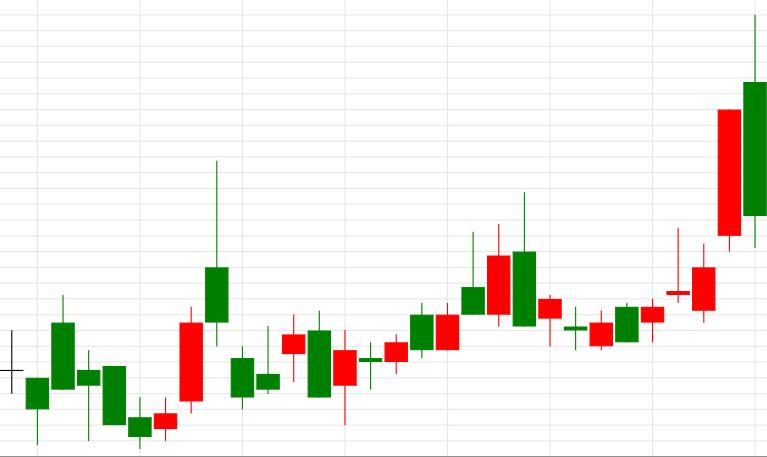bearish_engulfing_fall: (333, 193, 536, 424)
